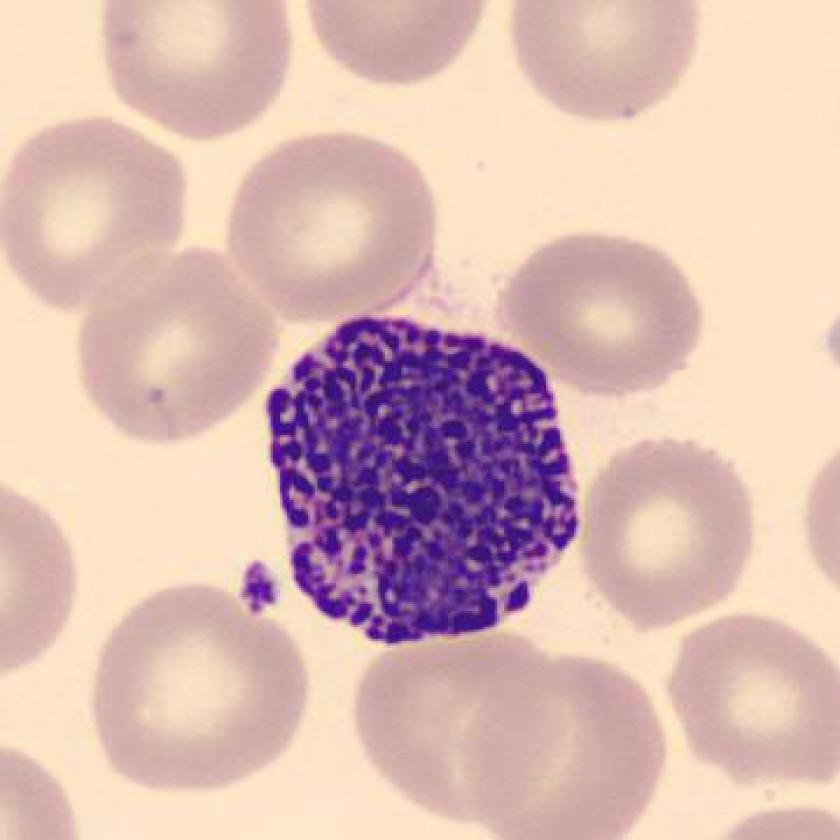basophil: (241, 311, 603, 651)
